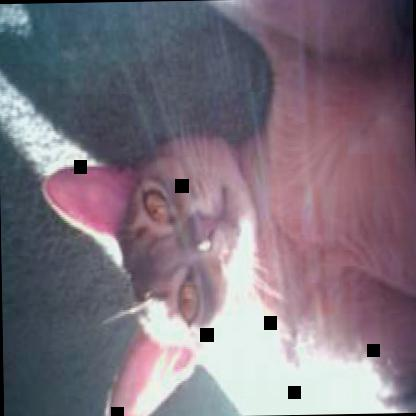cat: (39, 64, 415, 415)
